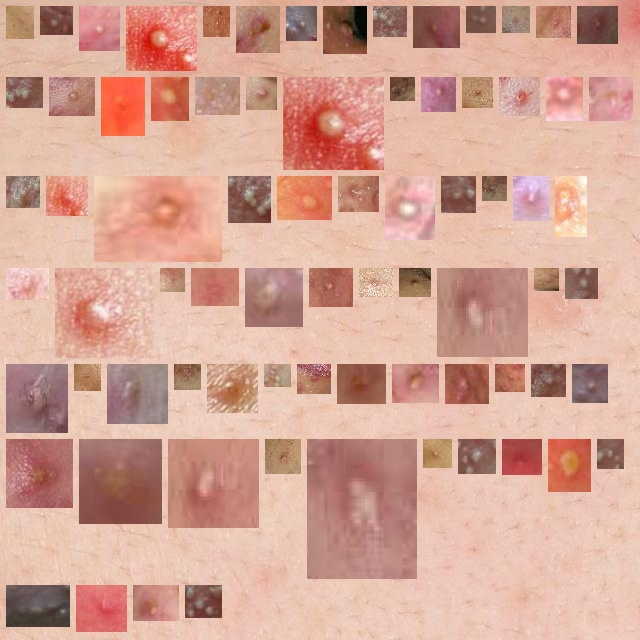pustule: (315, 447, 409, 571), (102, 176, 214, 254), (291, 85, 376, 162), (63, 276, 146, 350), (445, 276, 520, 349), (176, 447, 251, 520), (87, 447, 154, 516), (14, 447, 65, 500), (134, 14, 189, 63), (14, 372, 60, 425), (115, 372, 160, 416), (253, 276, 295, 319), (393, 184, 427, 232), (285, 184, 324, 218), (14, 593, 62, 619), (109, 85, 137, 128), (215, 372, 250, 405), (84, 593, 119, 624), (556, 447, 583, 484), (559, 184, 579, 229), (331, 14, 359, 46), (244, 14, 272, 45), (236, 184, 263, 215), (421, 14, 452, 40), (345, 372, 378, 396), (597, 85, 625, 113), (141, 593, 171, 619), (87, 14, 112, 43), (400, 372, 431, 395), (199, 276, 231, 298), (57, 85, 87, 108), (453, 372, 481, 396), (317, 276, 345, 299), (203, 85, 232, 107), (54, 184, 80, 208), (159, 85, 181, 113), (510, 447, 534, 472), (554, 85, 575, 113), (521, 184, 541, 213), (507, 85, 532, 108), (14, 271, 41, 292), (585, 14, 610, 36), (346, 184, 371, 204), (429, 79, 448, 104), (580, 372, 600, 395), (466, 447, 488, 466), (449, 184, 468, 205), (273, 447, 293, 466), (193, 593, 214, 610), (539, 372, 558, 389), (14, 85, 35, 100), (544, 14, 563, 30), (14, 184, 32, 200), (294, 14, 309, 33), (381, 14, 399, 29), (254, 85, 269, 102), (573, 276, 590, 291), (305, 372, 323, 386), (47, 14, 65, 27), (367, 276, 385, 289), (470, 85, 485, 100), (407, 276, 423, 289), (14, 14, 26, 31), (431, 447, 444, 460), (503, 372, 517, 384), (211, 14, 222, 29), (474, 14, 488, 25), (605, 447, 616, 461), (510, 14, 522, 25), (82, 372, 93, 383), (182, 372, 193, 382), (490, 184, 499, 193), (272, 372, 283, 379), (398, 85, 407, 93), (168, 276, 177, 284), (542, 276, 551, 283)
